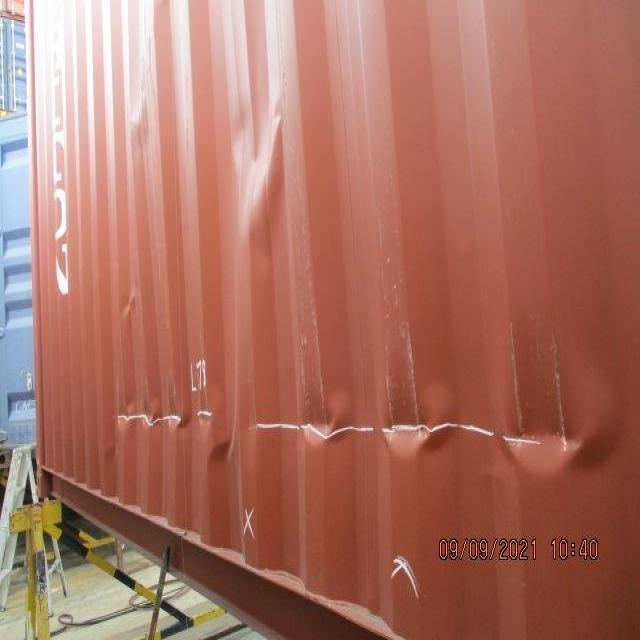Dent: (99, 335, 622, 491), (187, 65, 313, 251)
Minor-Dent: (121, 68, 168, 167)
